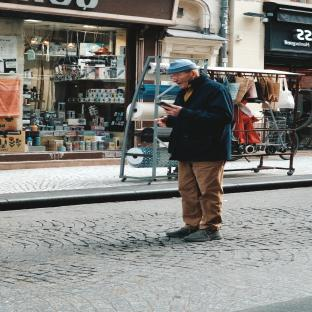Human: (155, 60, 234, 242)
